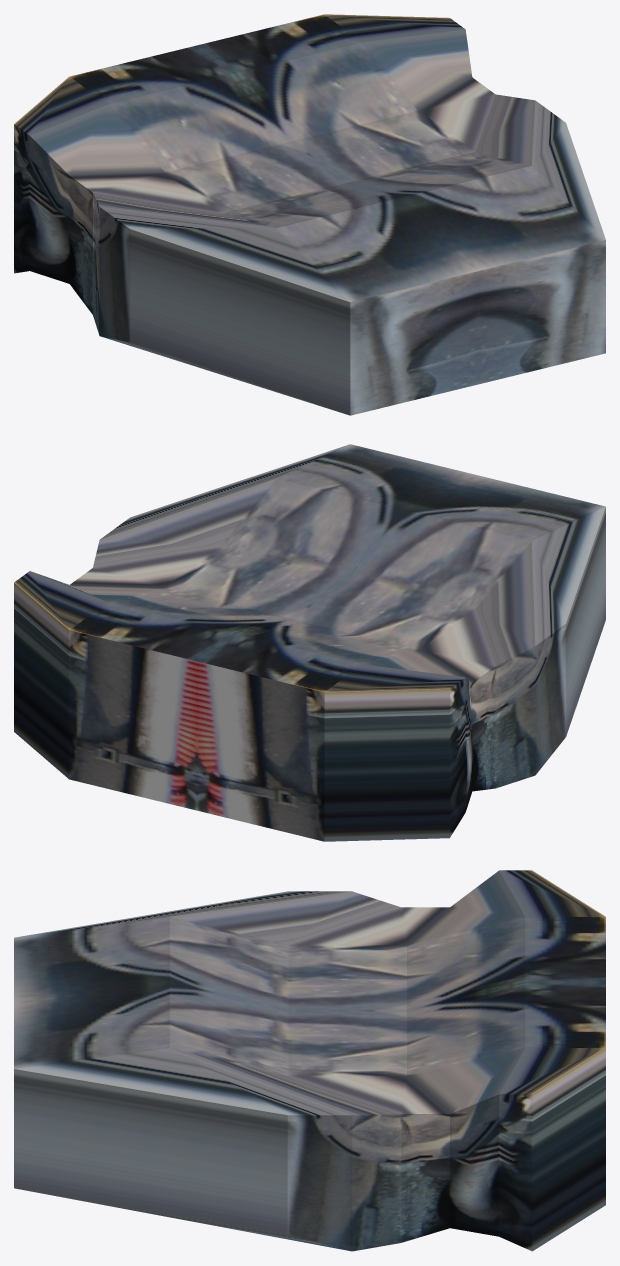
The picture shows the model from 3 angles, top to bottom: view 1: azimuth 30°, elevation 25°; view 2: azimuth 150°, elevation 25°; view 3: azimuth 270°, elevation 25°; orthographic projection. The views are drawn at different scales.
Visible parts, largest first — view 1: Body-2.001_Cube.013; view 2: Body-2.001_Cube.013; view 3: Body-2.001_Cube.013.
Boxes of the visible parts, x1,y1,x2,y2 form: Body-2.001_Cube.013: [14, 14, 605, 415]; Body-2.001_Cube.013: [14, 444, 605, 841]; Body-2.001_Cube.013: [14, 870, 605, 1251].
Bounding box in the file's own units: 10.91 × 3.57 × 12.19.
